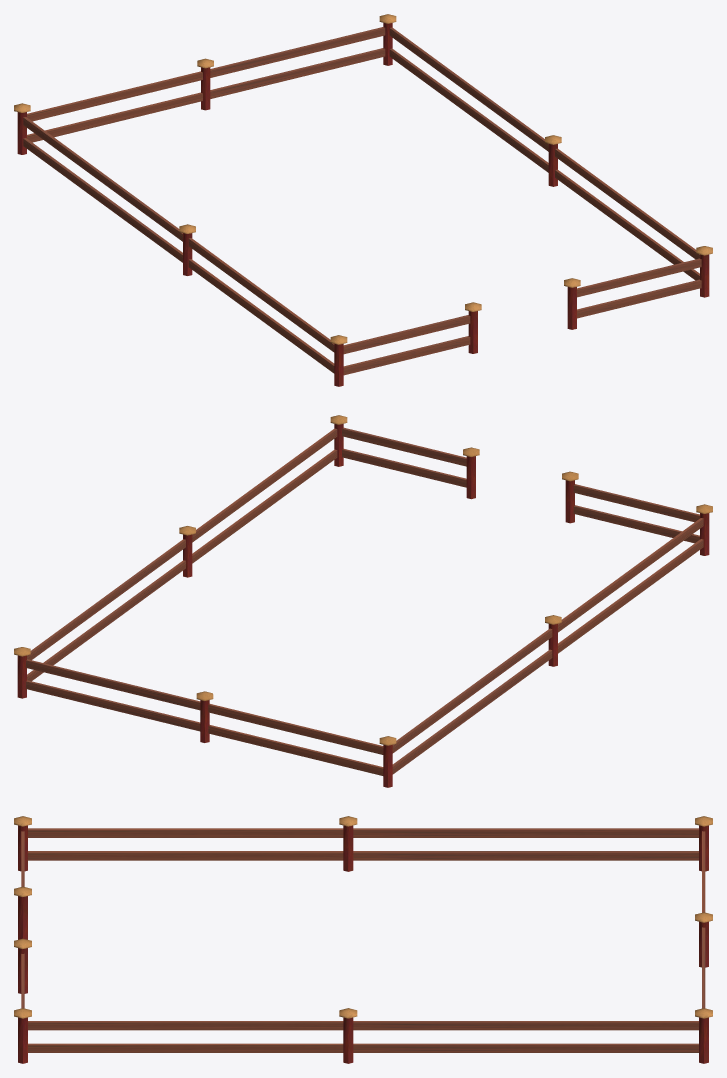
The model's file is Fence02_Art.fbx.
The picture shows the model from 3 angles, top to bottom: view 1: azimuth 30°, elevation 25°; view 2: azimuth 150°, elevation 25°; view 3: azimuth 270°, elevation 25°; orthographic projection. The views are drawn at different scales.
Parts seen in each view (by area): view 1: Fence02_Art; view 2: Fence02_Art; view 3: Fence02_Art.
Boxes of the visible parts, bbox=[...] form: Fence02_Art: bbox=[14, 14, 712, 386]; Fence02_Art: bbox=[14, 415, 712, 787]; Fence02_Art: bbox=[14, 816, 712, 1063].
Size of the model in its own units: 15.47 by 1.86 by 22.76.
